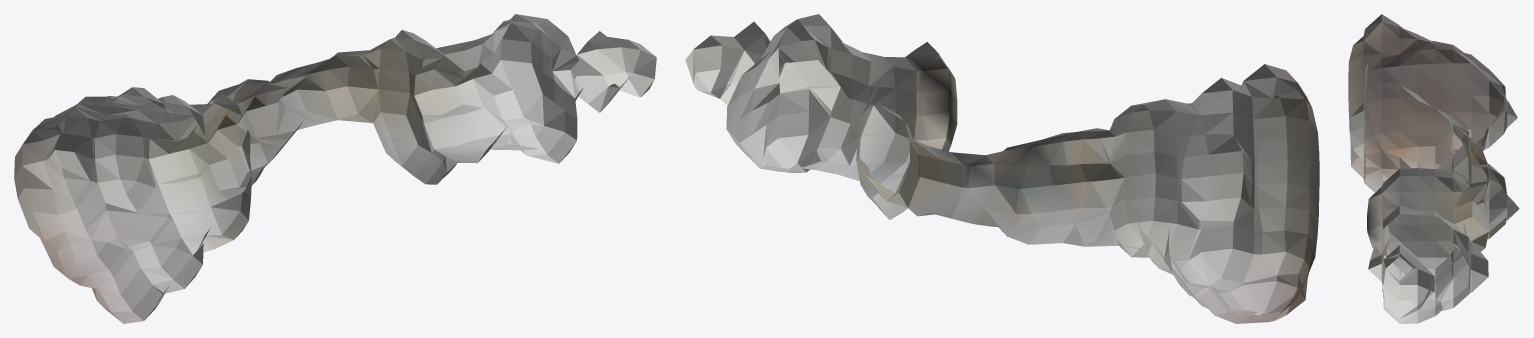
File: king.glb
3 views of the same model, side by side, from view 1: azimuth 30°, elevation 25°; view 2: azimuth 150°, elevation 25°; view 3: azimuth 270°, elevation 25° (orthographic). The views are drawn at different scales.
Visible parts, largest first — view 1: world; view 2: world; view 3: world.
Part boxes in pixels (x1=…): world: x1=14, y1=14, x2=656, y2=323; world: x1=685, y1=14, x2=1319, y2=323; world: x1=1348, y1=14, x2=1519, y2=323.
Size of the model in its own units: 1.06 by 0.4058 by 0.3541.
